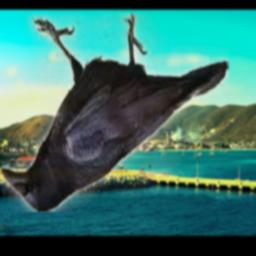Crow: (1, 14, 229, 213)
